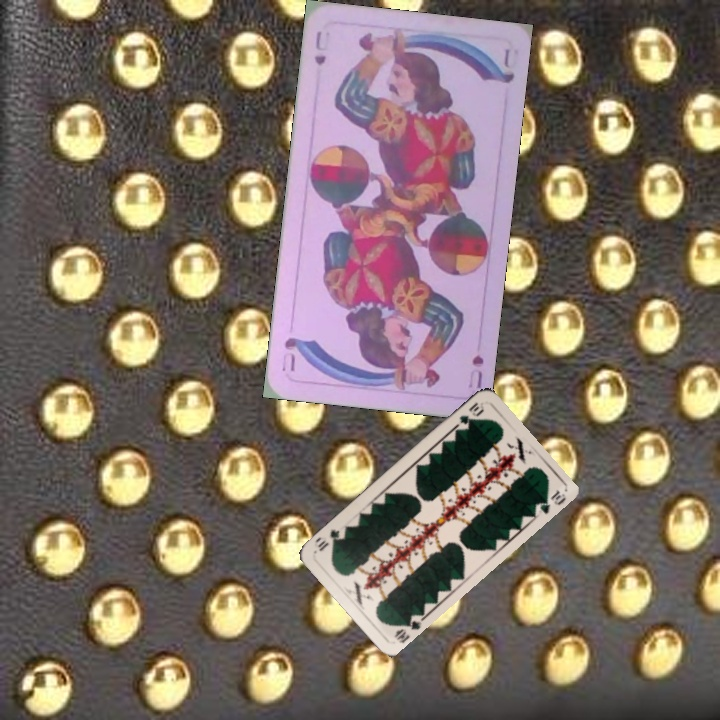G10: (390, 610, 425, 646), (455, 398, 487, 427)
SU: (463, 351, 487, 391), (310, 27, 332, 68)
